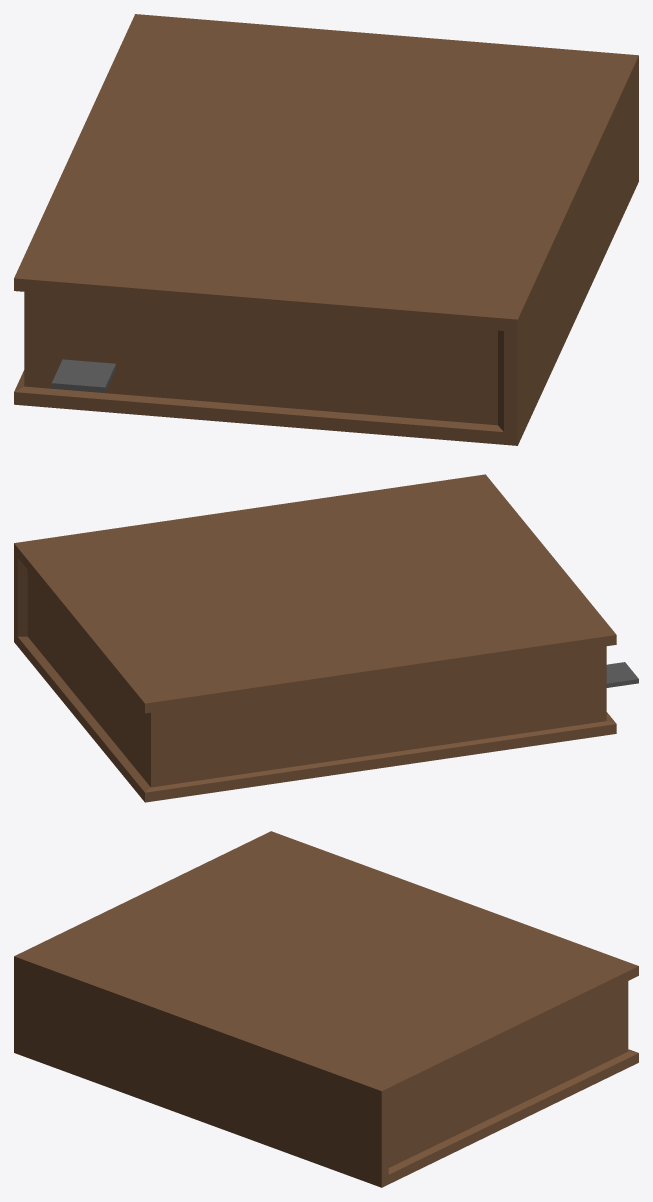
File: Bedroom_Book.fbx
3 renders of one model, top to bottom at view 1: azimuth 30°, elevation 25°; view 2: azimuth 150°, elevation 25°; view 3: azimuth 270°, elevation 25°, orthographic. The views are drawn at different scales.
Parts seen in each view (by area): view 1: Bedroom_Book; view 2: Bedroom_Book; view 3: Bedroom_Book.
Boxes of the visible parts, <box> form: Bedroom_Book: <box>14,14,638,445</box>; Bedroom_Book: <box>14,474,638,802</box>; Bedroom_Book: <box>14,831,638,1187</box>.
Bounding box in the file's own units: 42 × 7.27 × 42.64.
